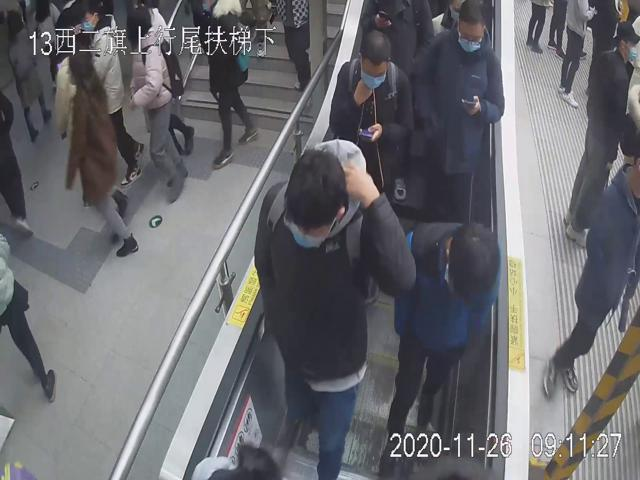person: (253, 137, 416, 480), (379, 217, 501, 480), (416, 0, 504, 218), (562, 19, 640, 249), (329, 28, 414, 211), (123, 4, 189, 204)
